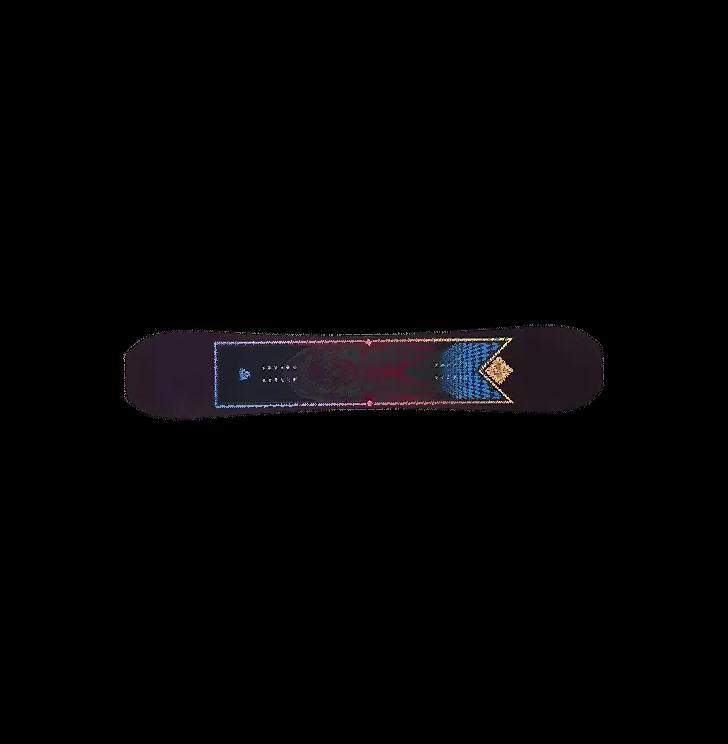Snowboard: (107, 313, 627, 470)
